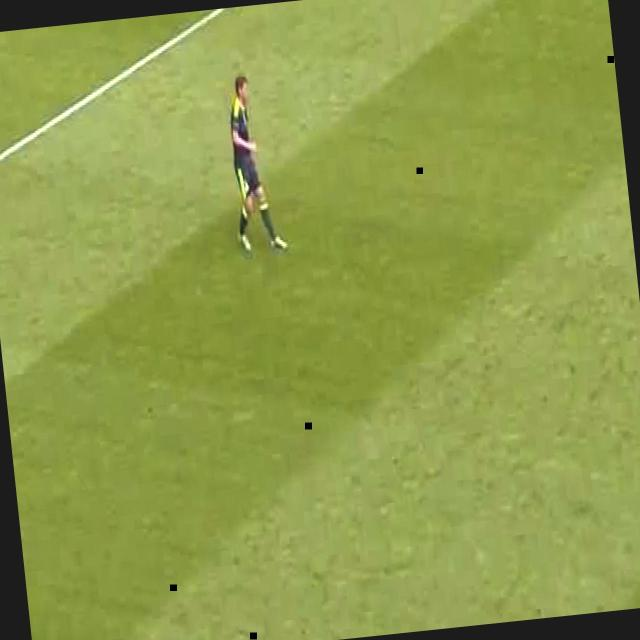player-white: (222, 72, 288, 257)
